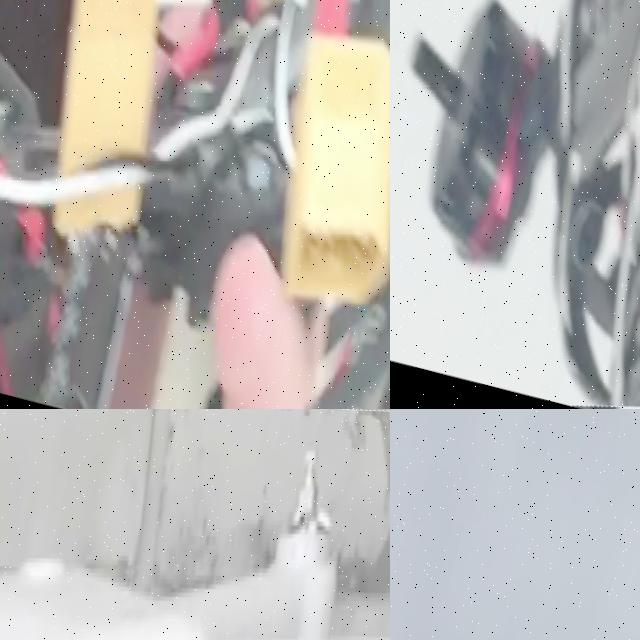drone: (0, 0, 390, 409), (390, 0, 640, 409), (0, 409, 390, 640)
